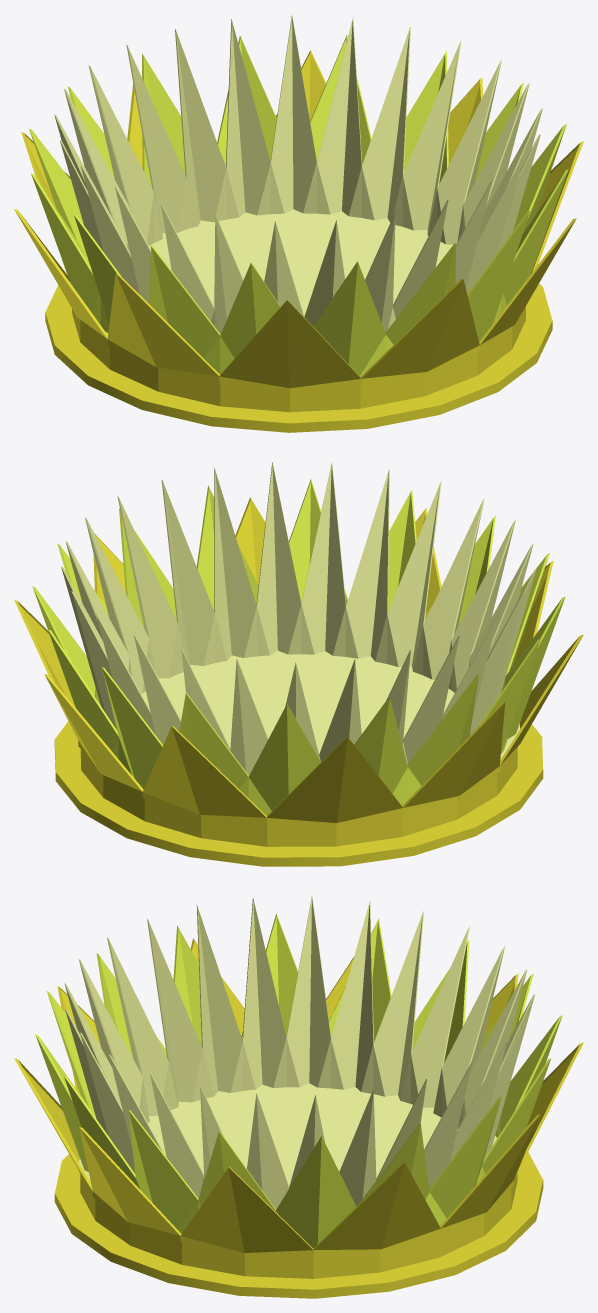
The model's file is portal_000028.obj.
The picture shows the model from 3 angles, top to bottom: view 1: azimuth 30°, elevation 25°; view 2: azimuth 150°, elevation 25°; view 3: azimuth 270°, elevation 25°; orthographic projection. The views are drawn at different scales.
Parts seen in each view (by area): view 1: Cylinder.001, pCylinder1, Cylinder; view 2: Cylinder.001, pCylinder1, Cylinder; view 3: Cylinder.001, pCylinder1, Cylinder.
Boxes of the visible parts, <box> form: Cylinder.001: <box>54,15,542,334</box>; pCylinder1: <box>14,50,583,432</box>; Cylinder: <box>29,35,568,376</box>; Cylinder.001: <box>61,462,536,775</box>; pCylinder1: <box>14,497,583,866</box>; Cylinder: <box>32,479,565,815</box>; Cylinder.001: <box>64,896,534,1209</box>; pCylinder1: <box>14,938,583,1298</box>; Cylinder: <box>35,914,562,1248</box>.
Size of the model in its own units: 7.22 by 2.9 by 7.43.
3 materials, 3 textured.
